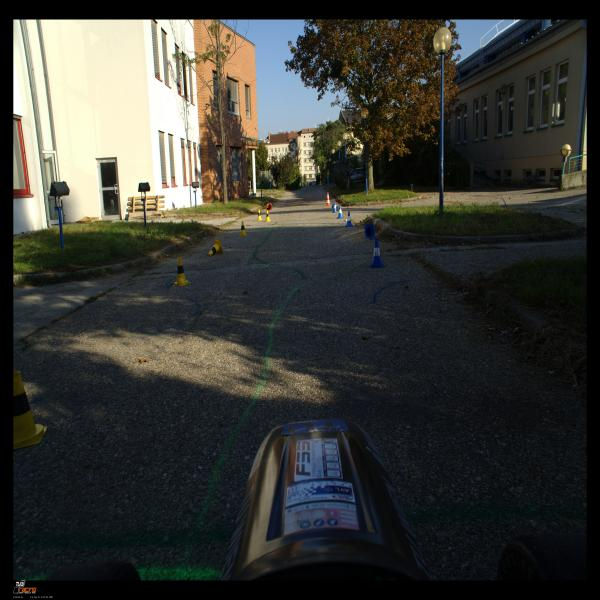blue_cone: (369, 239, 385, 268), (365, 223, 375, 239), (346, 212, 354, 227), (336, 206, 344, 218), (332, 202, 338, 213), (332, 202, 338, 208)
large_orange_cone: (326, 192, 331, 206), (267, 203, 272, 211)
yellow_cone: (13, 371, 48, 449), (172, 257, 191, 286), (208, 239, 223, 256), (239, 221, 248, 237), (265, 210, 271, 222), (257, 210, 262, 220), (266, 205, 270, 214)
